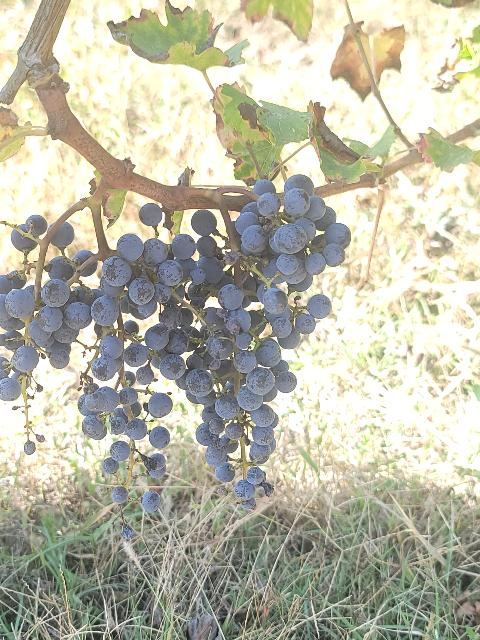grapes: (160, 175, 351, 508), (0, 220, 172, 506)
